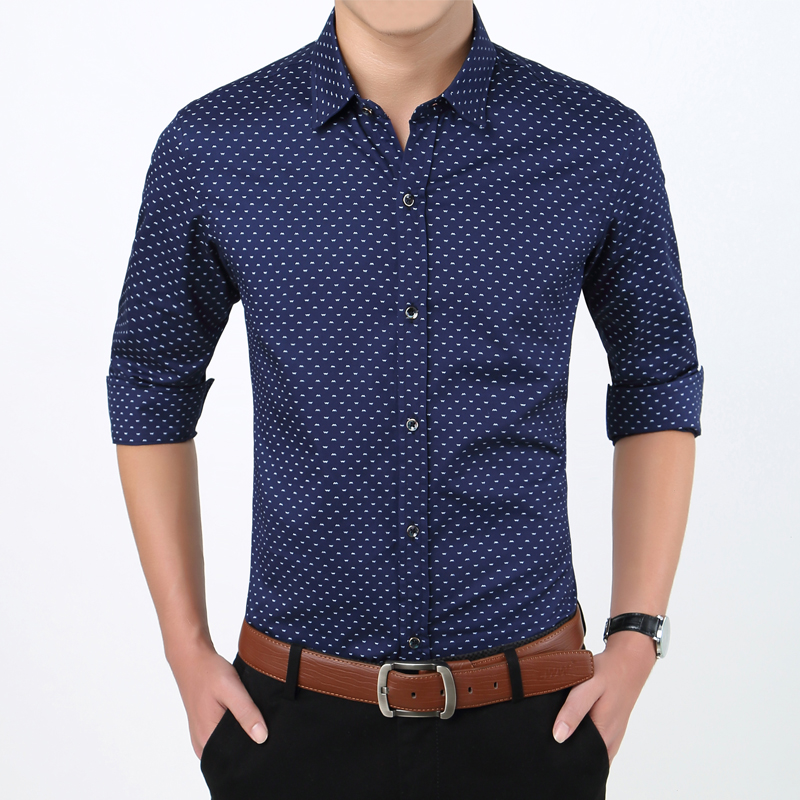Shirt: (90, 32, 765, 646)
